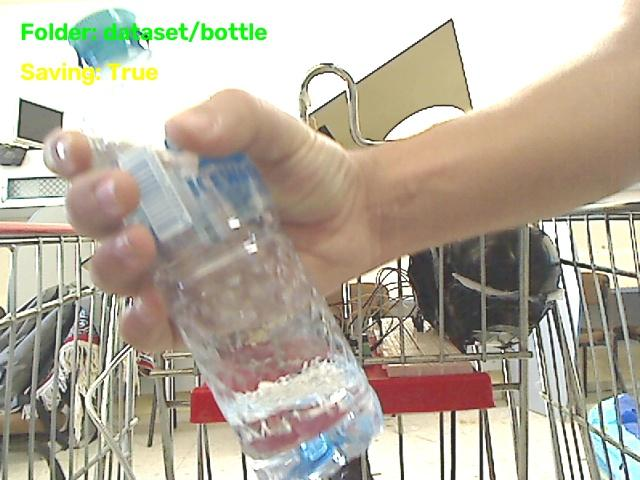Bottle: (91, 127, 382, 479)
